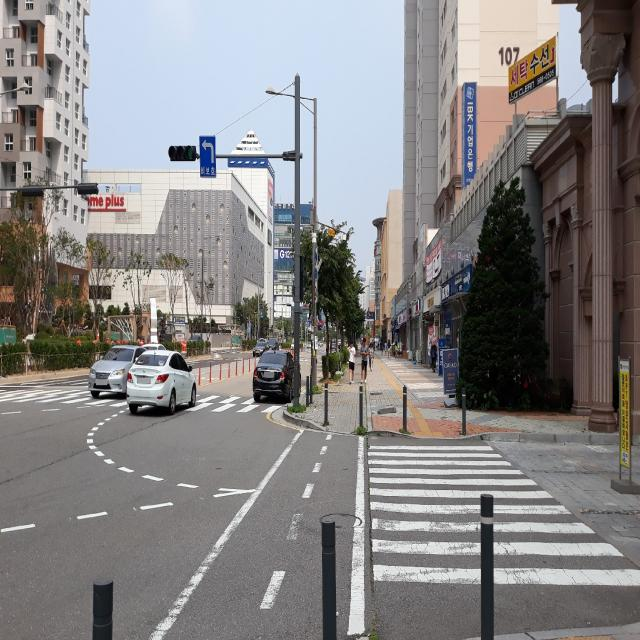횡단보도: (367, 446, 640, 585)
